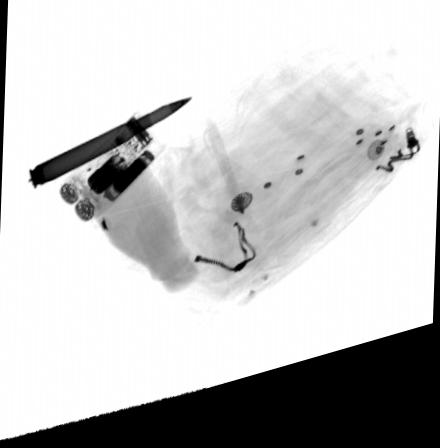Bullet: (28, 106, 195, 192)
